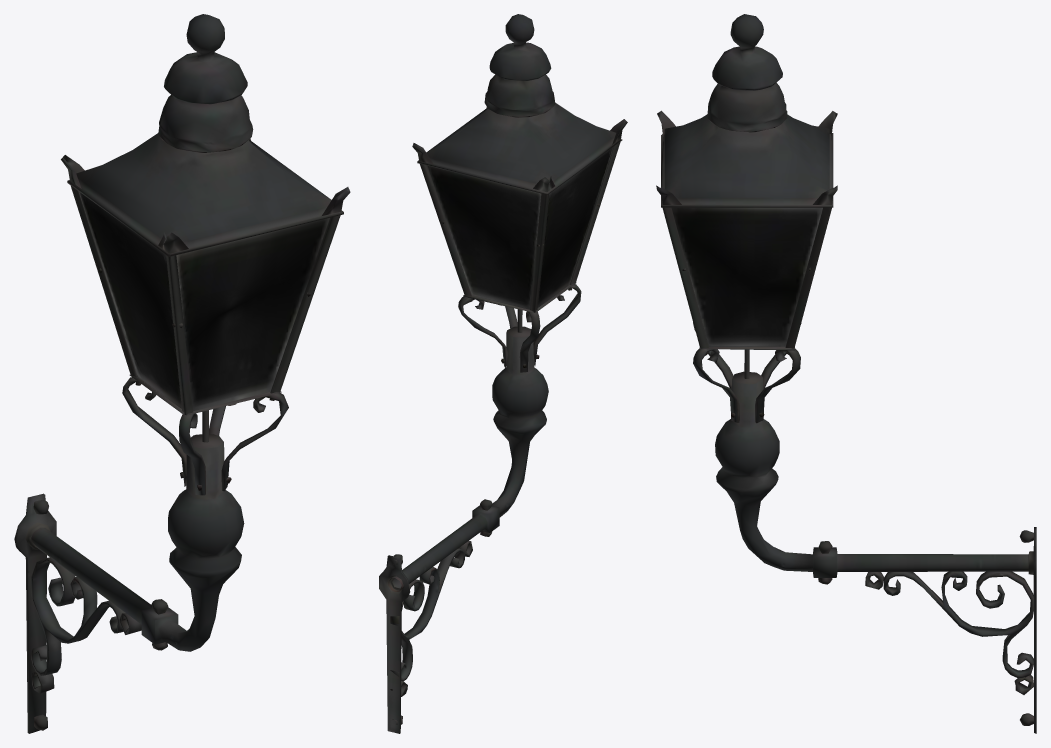
Rendered from street_lamp_02.glb.
3 views of the same model, side by side, from view 1: azimuth 30°, elevation 25°; view 2: azimuth 150°, elevation 25°; view 3: azimuth 270°, elevation 25° (orthographic). The views are drawn at different scales.
Parts seen in each view (by area): view 1: street_lamp_02; view 2: street_lamp_02; view 3: street_lamp_02.
Part boxes in pixels (x1,y1,x2,y2): street_lamp_02: (14,14,350,733); street_lamp_02: (379,14,627,733); street_lamp_02: (656,14,1036,733).
Size of the model in its own units: 0.385 by 1.67 by 0.8065.
2 materials, 2 textured.
